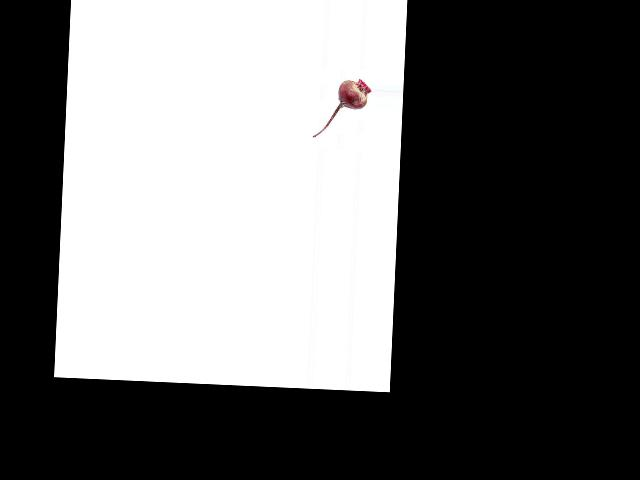beet: (312, 77, 371, 140)
